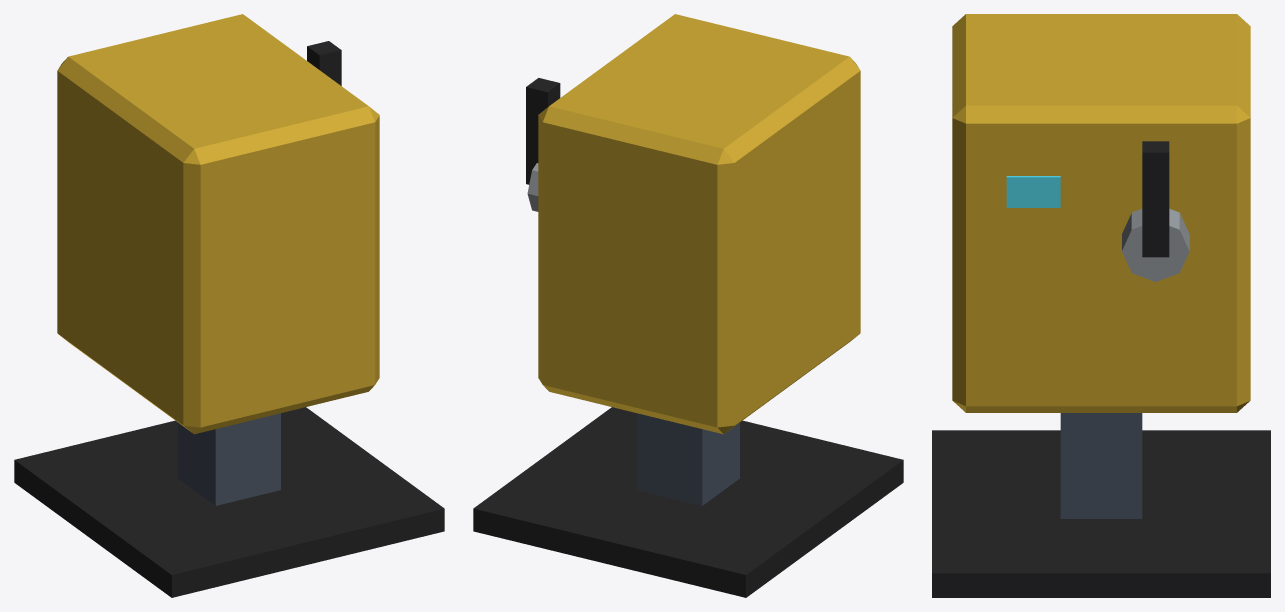
Rendered from power_switch.obj.
3 views of the same model, side by side, from view 1: azimuth 30°, elevation 25°; view 2: azimuth 150°, elevation 25°; view 3: azimuth 270°, elevation 25° (orthographic). The views are drawn at different scales.
Parts seen in each view (by area): view 1: body; view 2: body; view 3: body.
Boxes of the visible parts, <box> form: body: <box>14,14,444,597</box>; body: <box>473,14,903,597</box>; body: <box>932,14,1270,597</box>.
Bounding box in the file's own units: 0.5 × 0.75 × 0.5.
